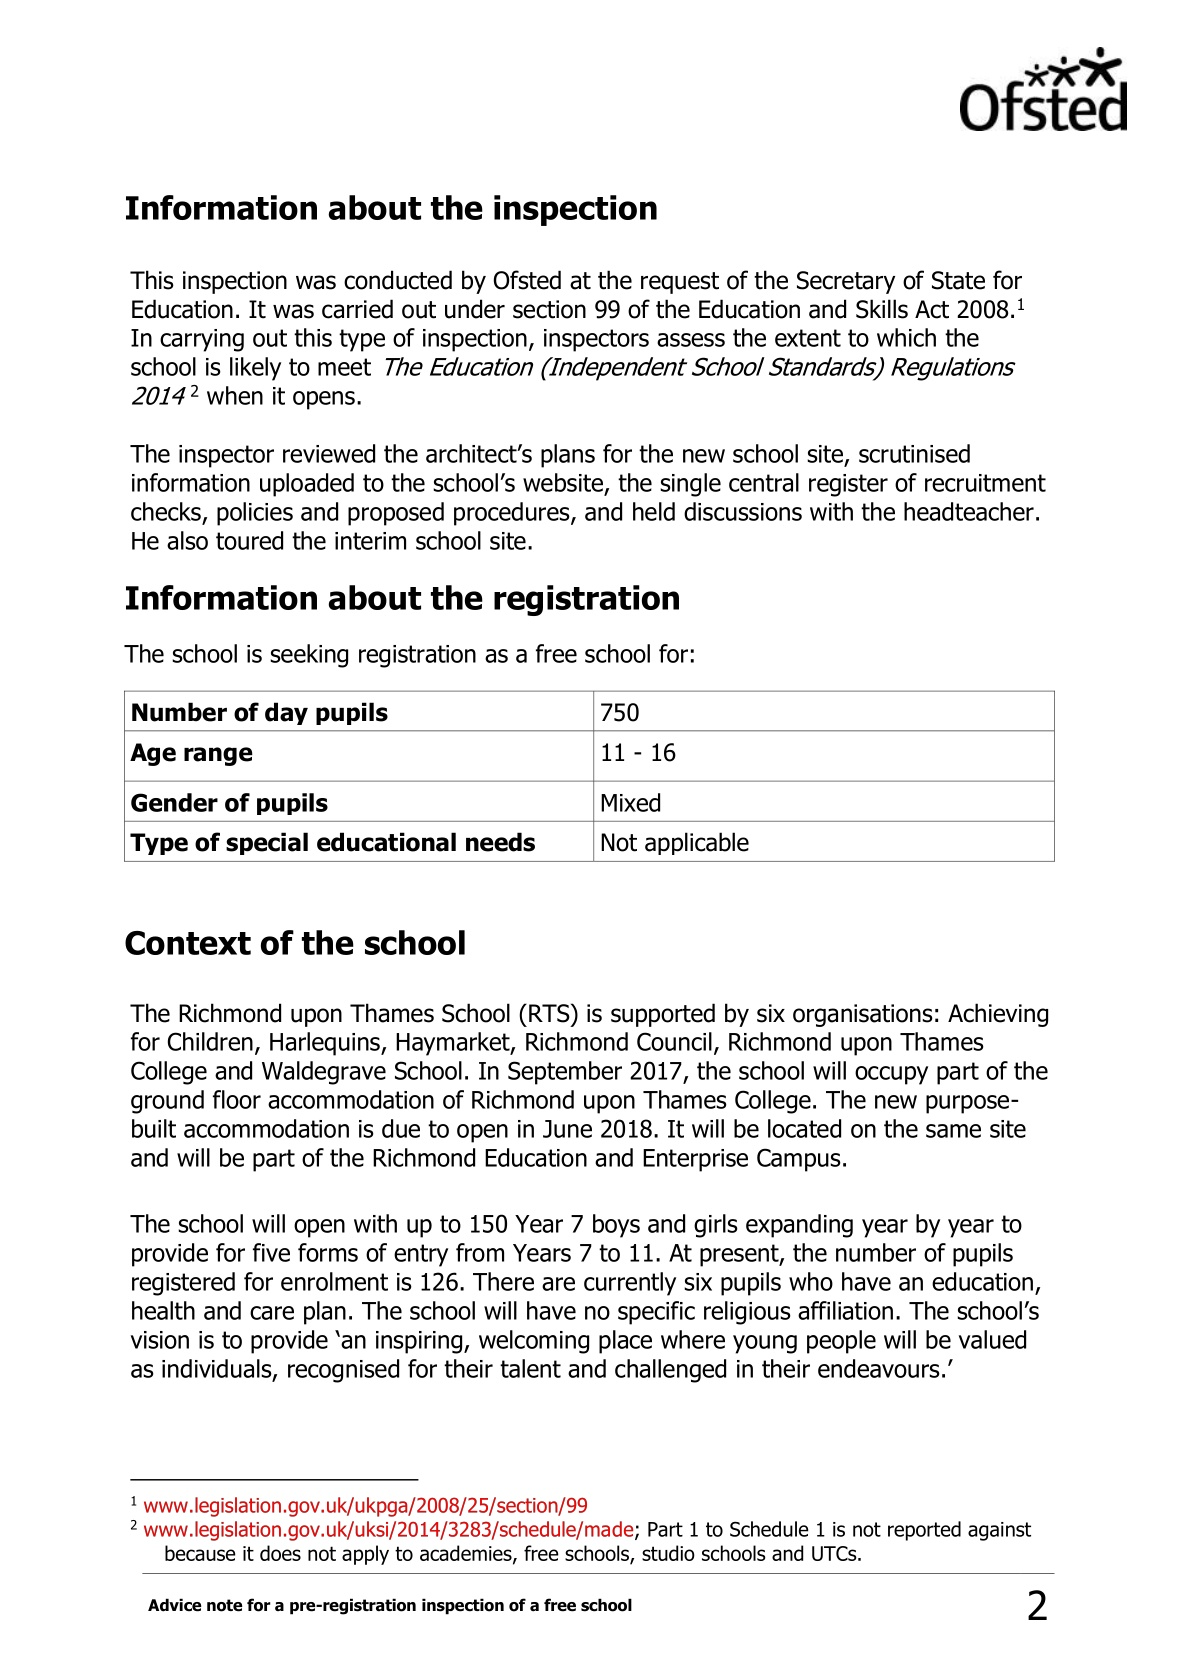full_lined: (123, 689, 1056, 864)
